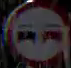No overtake: (4, 0, 69, 67)
